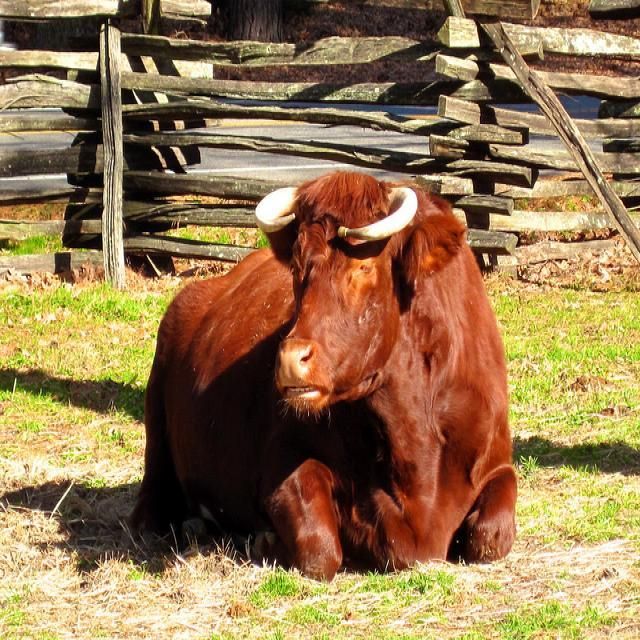cow: (127, 175, 522, 581)
